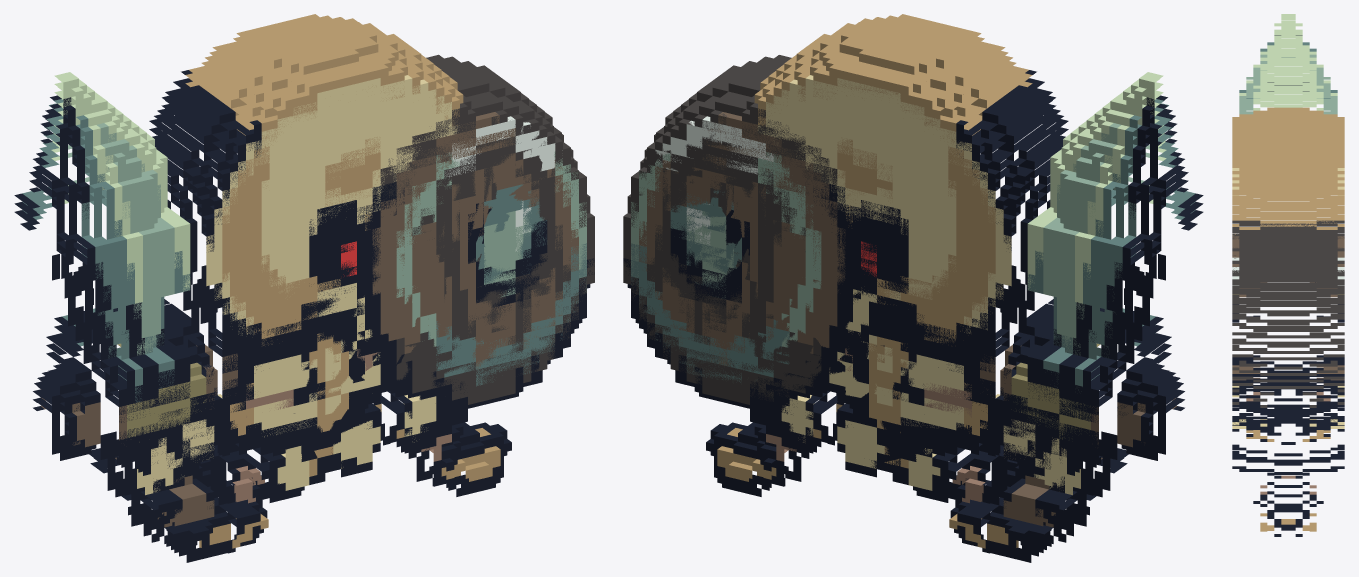
Rendered from guardiao_caveira.glb.
3 renders of one model, left to right at view 1: azimuth 30°, elevation 25°; view 2: azimuth 150°, elevation 25°; view 3: azimuth 270°, elevation 25°, orthographic. The views are drawn at different scales.
Parts seen in each view (by area): view 1: q0, q2, q1, q3, q4, q5; view 2: q0, q1, q2, q3, q4, q5; view 3: q0, q2, q1, q3, q4, q5.
Boxes of the visible parts, box(x1,y1,x2,y2) form: q0: box(14, 14, 594, 562); q2: box(14, 78, 594, 562); q1: box(14, 41, 594, 546); q3: box(20, 90, 594, 558); q4: box(20, 41, 590, 482); q5: box(155, 82, 594, 456); q0: box(623, 14, 1203, 562); q1: box(623, 41, 1203, 544); q2: box(623, 79, 1203, 562); q3: box(623, 90, 1202, 562); q4: box(624, 61, 1202, 483); q5: box(623, 84, 1062, 455); q0: box(1232, 14, 1344, 536); q2: box(1232, 20, 1344, 503); q1: box(1232, 137, 1344, 423); q3: box(1232, 29, 1344, 474); q4: box(1232, 137, 1344, 465); q5: box(1232, 227, 1344, 388).
Size of the model in its own units: 66 by 61 by 16.
1 material, 1 textured.
